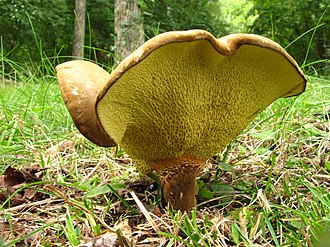boletus_poisinous: (23, 25, 318, 182)
